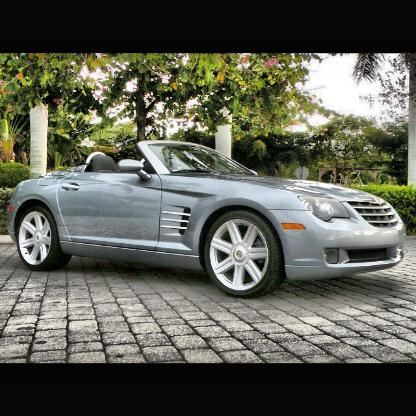Chrysler Crossfire Convertible 2008: (9, 141, 407, 299)
